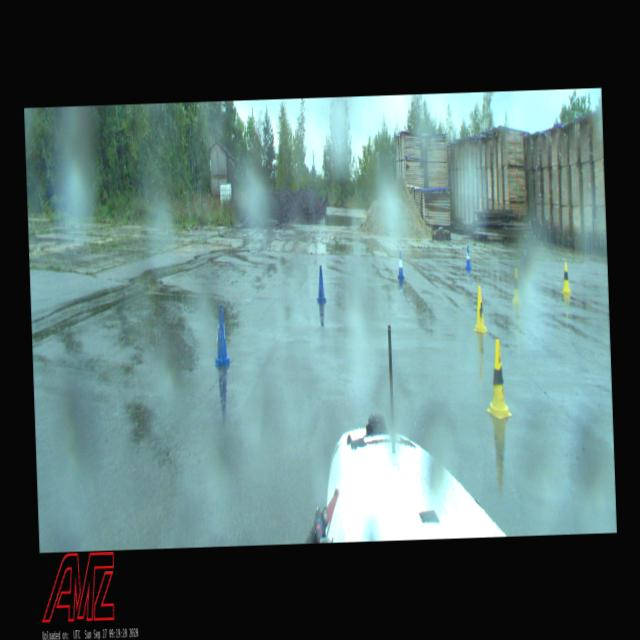blue_cone: (214, 306, 231, 366), (316, 266, 326, 302), (397, 252, 404, 278), (464, 246, 470, 270)
yellow_cone: (484, 339, 512, 418), (472, 286, 487, 331), (561, 261, 570, 292), (510, 268, 518, 300)
